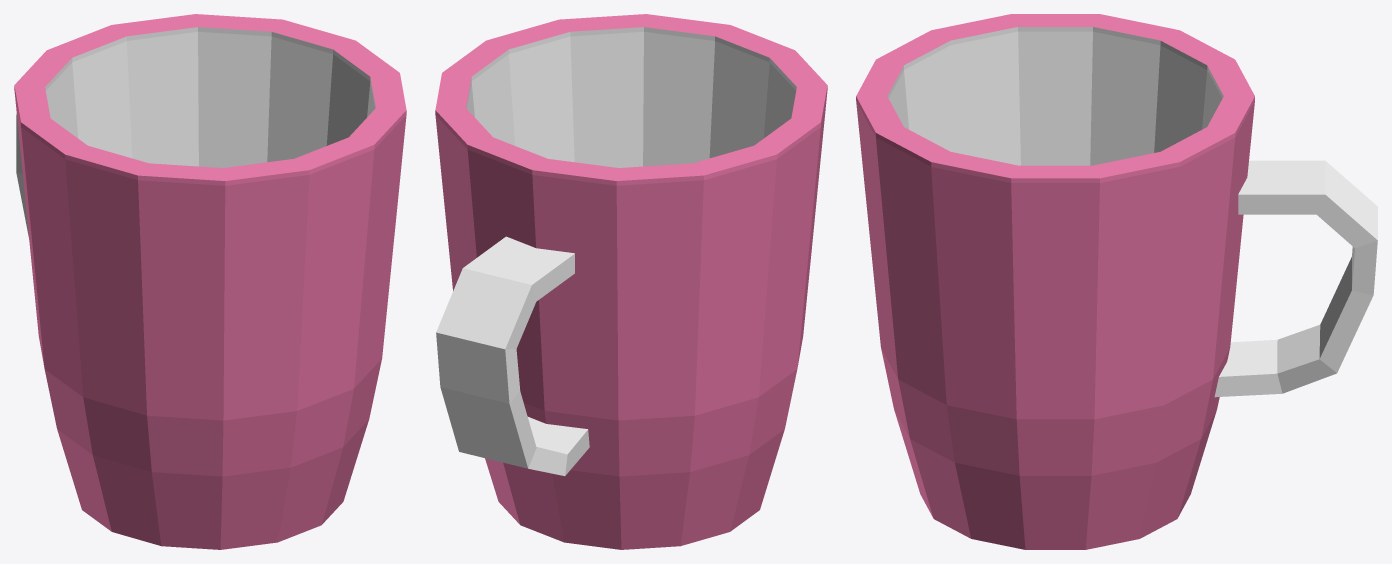
File: pink mug.fbx
The picture shows the model from 3 angles, left to right: view 1: azimuth 30°, elevation 25°; view 2: azimuth 150°, elevation 25°; view 3: azimuth 270°, elevation 25°; orthographic projection.
Parts seen in each view (by area): view 1: Cylinder, Plane.050; view 2: Cylinder, Plane.050; view 3: Cylinder, Plane.050.
Part boxes in pixels (<box>): Cylinder: <box>14,14,406,549</box>; Plane.050: <box>16,114,29,239</box>; Cylinder: <box>435,14,827,549</box>; Plane.050: <box>436,236,589,475</box>; Cylinder: <box>856,14,1254,549</box>; Plane.050: <box>1214,160,1377,397</box>.
Bounding box in the file's own units: 516 × 583 × 693.
